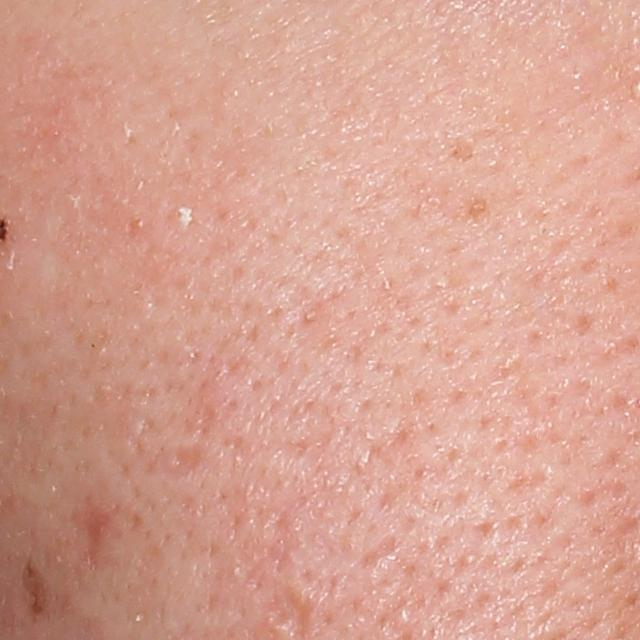atrophic_scar: (75, 493, 115, 574), (155, 438, 207, 483), (358, 532, 399, 572)
comedo: (167, 199, 193, 227)
